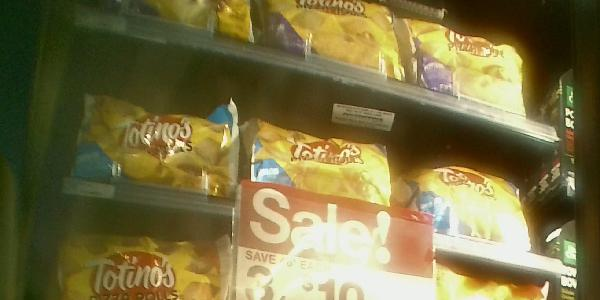icecream: (69, 85, 241, 207), (244, 111, 393, 226), (399, 139, 537, 253)
